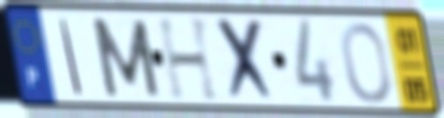4: (291, 16, 339, 107)
H: (154, 15, 223, 104)
I: (56, 15, 85, 98)
M: (87, 15, 163, 100)
O: (338, 20, 394, 106)
X: (213, 15, 280, 106)
